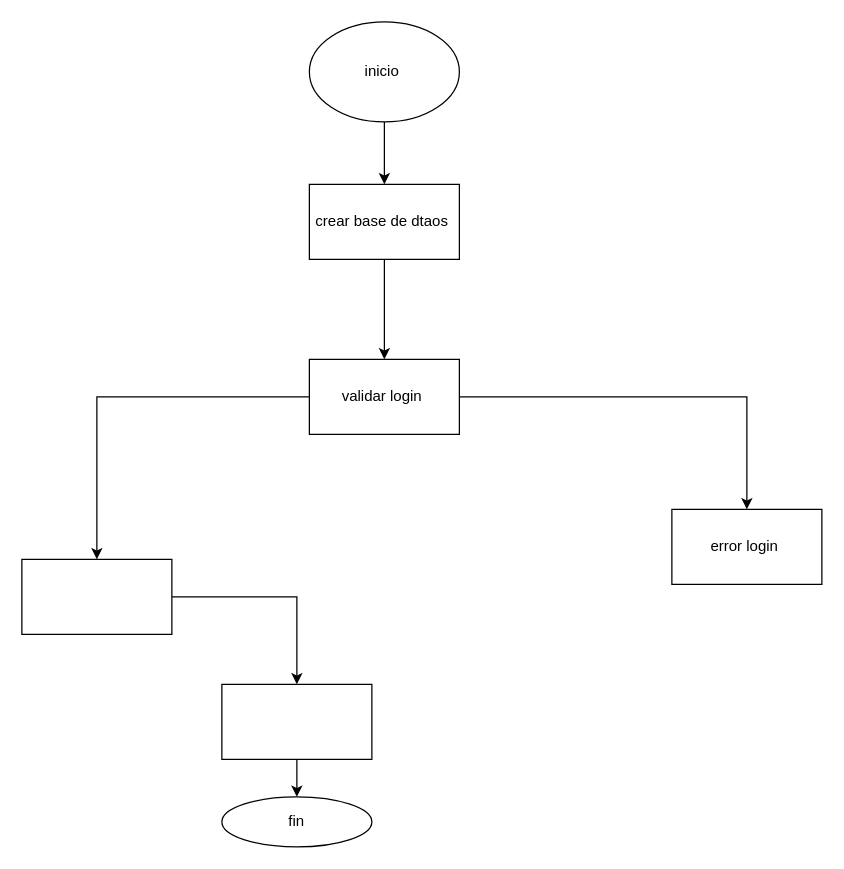
The diagram is 844 pixels wide and 869 high, and some of its shapes have lost their labels. The centre of each missing label's shape, as x and y in pixels:
acceso exitoso: (96,596)
mostrar personajes: (296,721)
